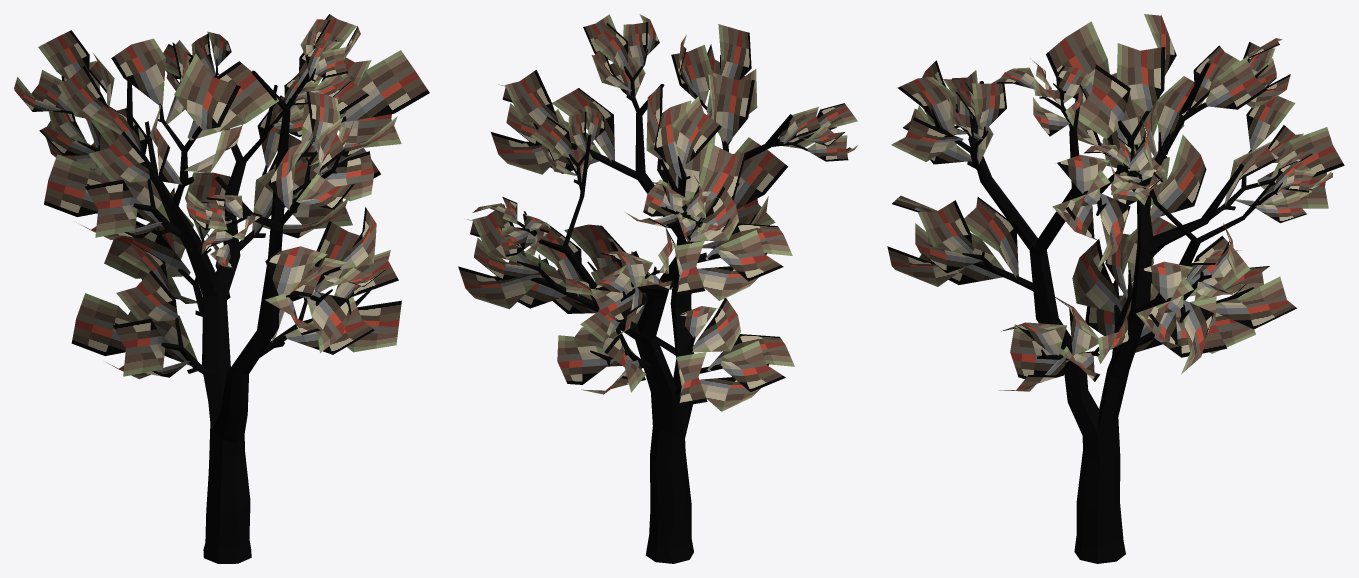
The model's file is SM_Tree_Generic_Dead_01_LOD_01.fbx.
The picture shows the model from 3 angles, left to right: view 1: azimuth 30°, elevation 25°; view 2: azimuth 150°, elevation 25°; view 3: azimuth 270°, elevation 25°; orthographic projection. The views are drawn at different scales.
Visible parts, largest first — view 1: SM_Tree_Generic_Dead_01_LOD_01; view 2: SM_Tree_Generic_Dead_01_LOD_01; view 3: SM_Tree_Generic_Dead_01_LOD_01.
Boxes of the visible parts, x1,y1,x2,y2 form: SM_Tree_Generic_Dead_01_LOD_01: [14, 14, 429, 563]; SM_Tree_Generic_Dead_01_LOD_01: [458, 14, 857, 563]; SM_Tree_Generic_Dead_01_LOD_01: [887, 14, 1344, 563].
Bounding box in the file's own units: 356 × 533 × 411.
